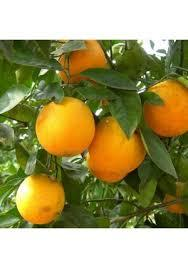orange: (133, 67, 187, 139), (36, 91, 93, 157), (89, 118, 147, 182), (18, 171, 79, 229), (67, 44, 123, 82)
